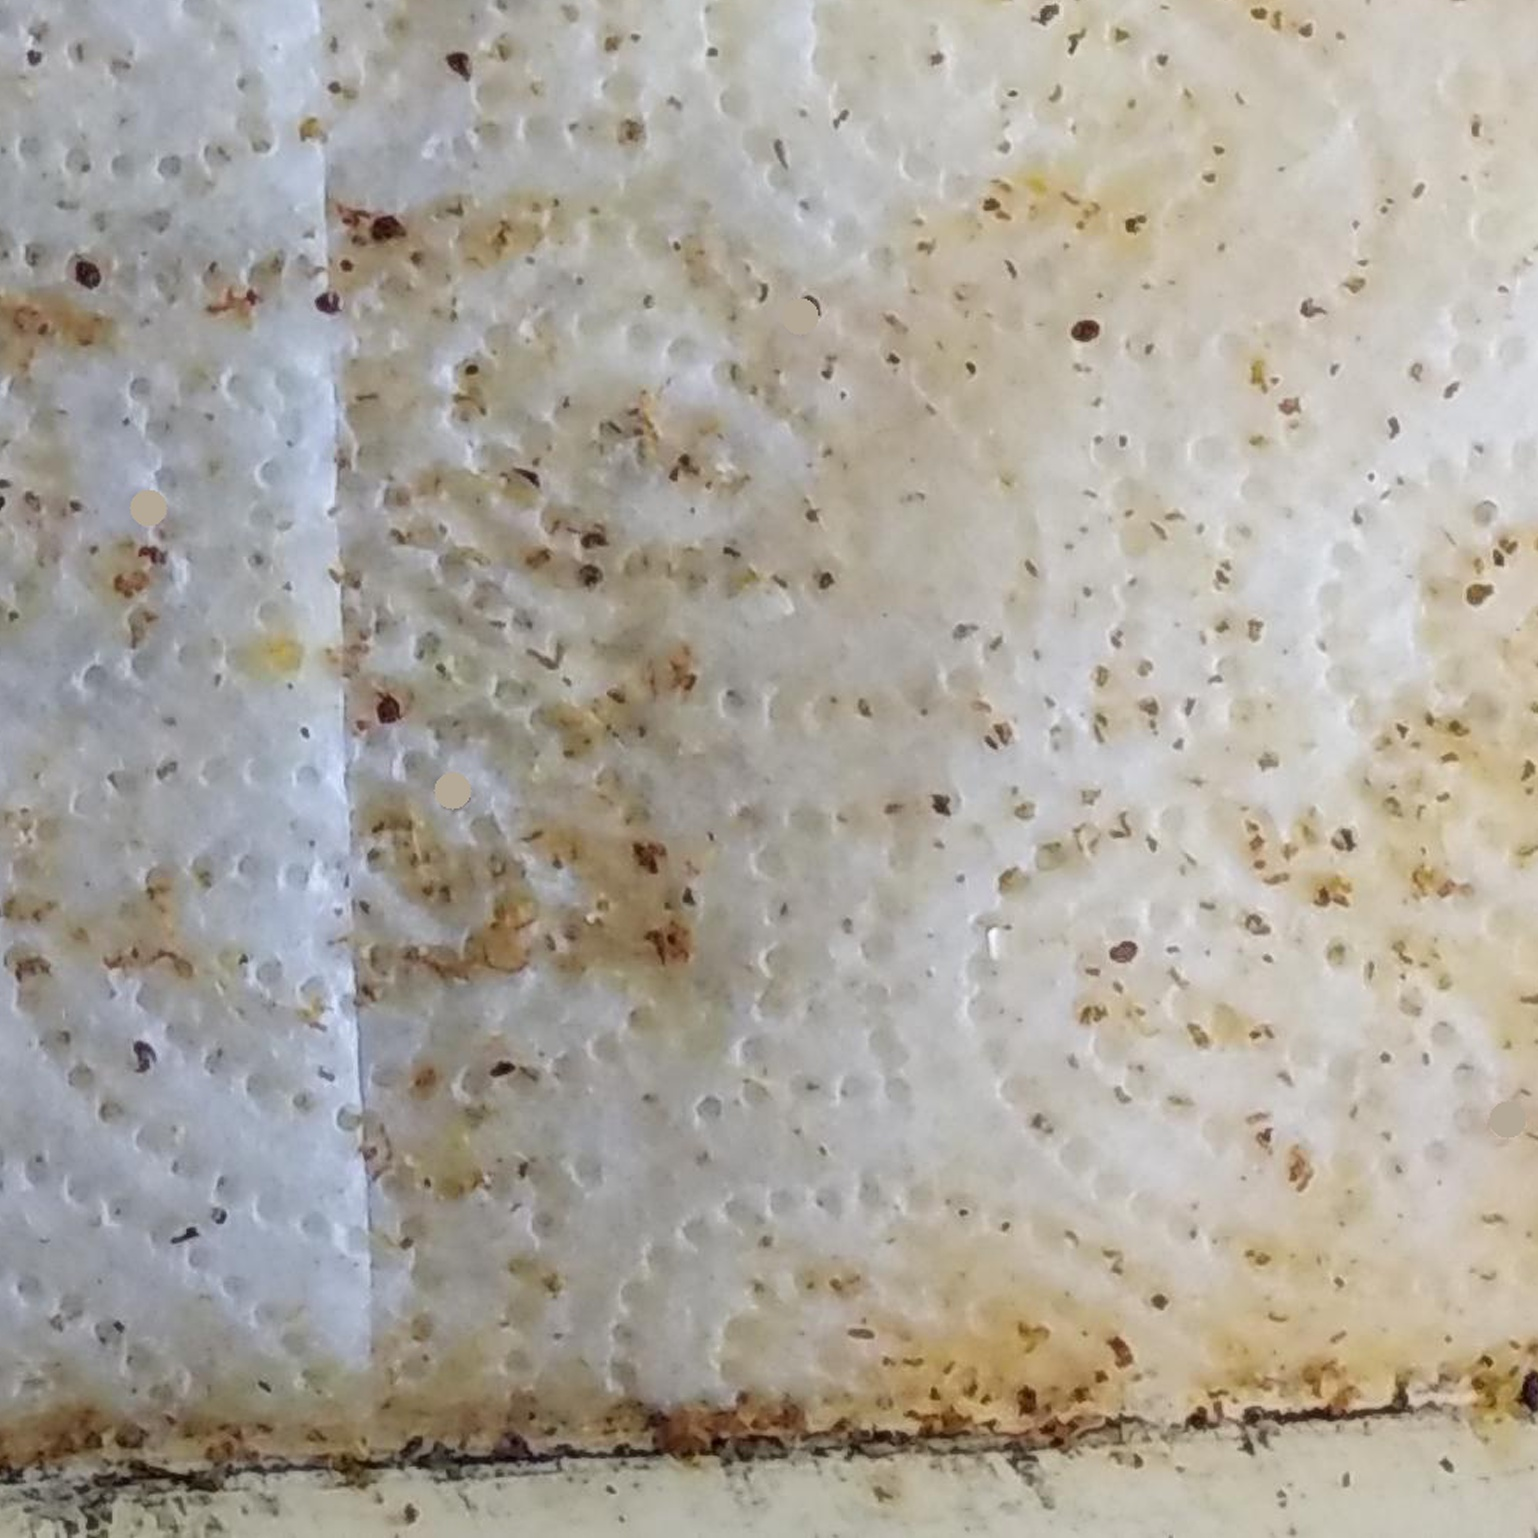Varroa: (75, 256, 103, 285), (446, 51, 475, 79), (1106, 938, 1132, 963), (796, 287, 823, 313), (382, 699, 408, 723), (315, 290, 339, 314), (1073, 318, 1094, 339)
